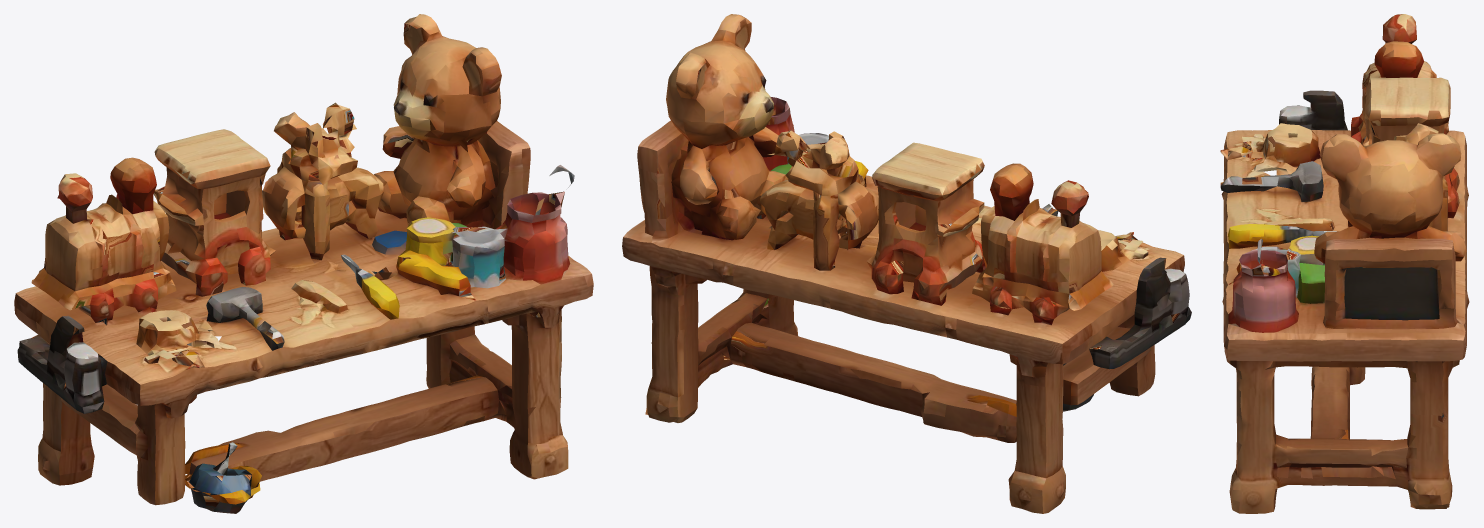
File: xsw_bench.glb
3 renders of one model, left to right at view 1: azimuth 30°, elevation 25°; view 2: azimuth 150°, elevation 25°; view 3: azimuth 270°, elevation 25°, orthographic. The views are drawn at different scales.
Parts seen in each view (by area): view 1: mesh_q; view 2: mesh_q; view 3: mesh_q.
Part boxes in pixels (x1=…): mesh_q: x1=14, y1=14, x2=593, y2=513; mesh_q: x1=622, y1=14, x2=1191, y2=513; mesh_q: x1=1220, y1=14, x2=1469, y2=513.
Bounding box in the file's own units: 97.52 × 73.69 × 45.34.
Materials: 1 (1 with a texture image).
